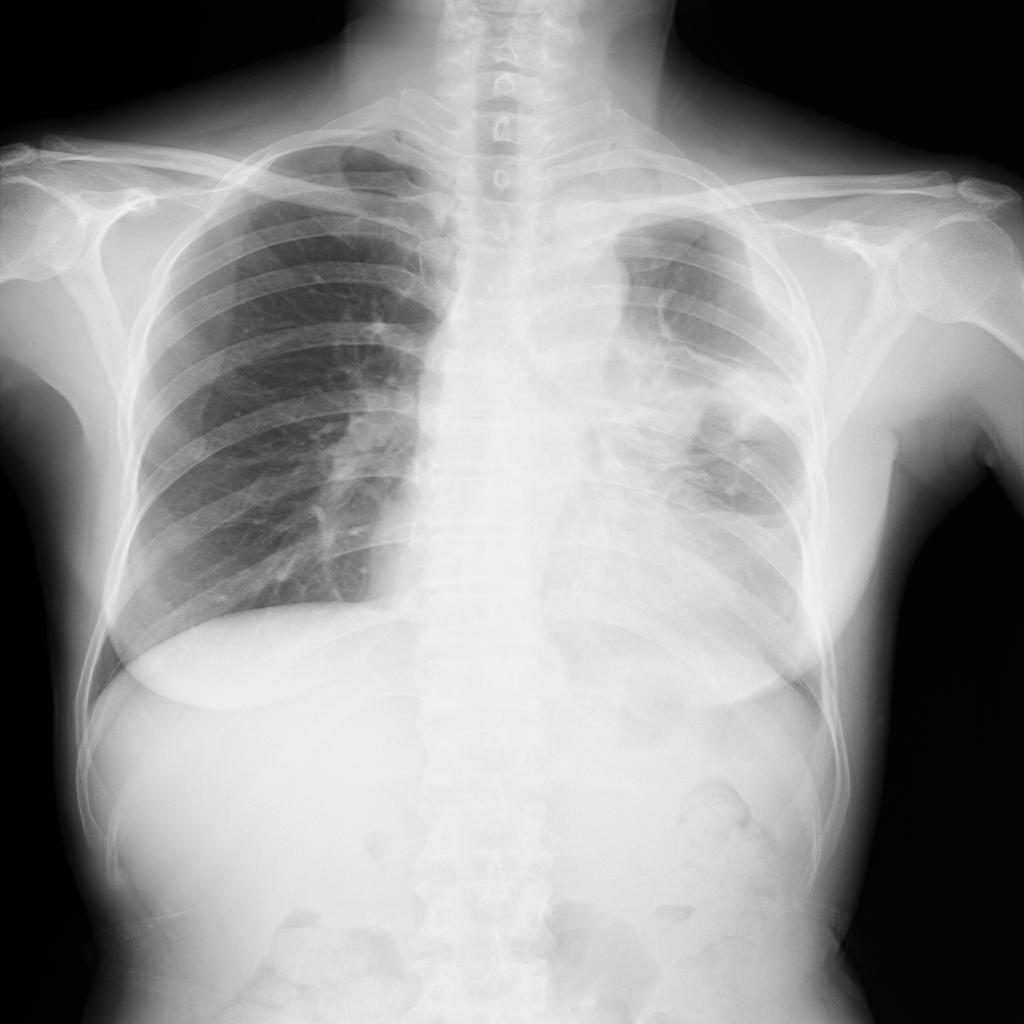Nodule: (714, 366, 812, 440)
